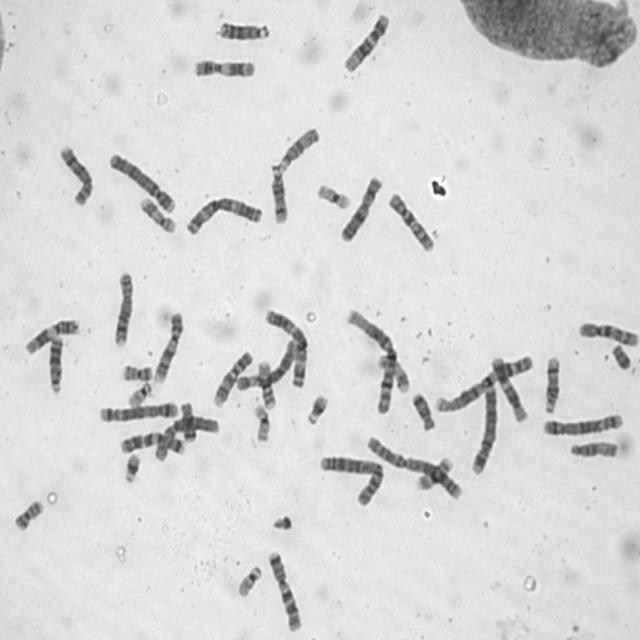A1: (431, 351, 534, 417), (342, 306, 400, 418)
A2: (362, 432, 464, 502), (316, 452, 385, 507)
A3: (262, 304, 310, 390), (183, 194, 264, 237)
B4: (107, 148, 178, 216), (467, 381, 499, 475)
B5: (540, 409, 626, 438), (97, 398, 179, 425)
C10: (386, 187, 436, 254), (576, 318, 639, 349)
C11: (22, 316, 82, 358), (191, 56, 258, 80)
C12: (340, 11, 391, 74), (488, 352, 530, 424)
C6: (233, 338, 302, 393), (150, 411, 221, 464)
C7: (264, 546, 304, 634), (117, 429, 187, 456)
C8: (55, 140, 96, 208), (110, 267, 137, 350)
C9: (208, 347, 254, 409), (151, 309, 185, 386)
D13: (216, 18, 270, 44), (45, 333, 65, 394)
D14: (267, 160, 290, 227), (541, 353, 562, 414)
D15: (276, 124, 322, 170), (566, 438, 620, 460)
E16: (414, 452, 455, 492), (256, 358, 278, 412)
E17: (136, 193, 176, 235), (375, 351, 410, 395)
E18: (409, 390, 438, 432), (178, 400, 196, 443)
F19: (315, 180, 353, 212), (250, 401, 272, 444)
F20: (12, 496, 46, 532), (119, 360, 154, 382)
G21: (303, 390, 330, 427), (121, 449, 142, 484)
G22: (234, 561, 263, 599), (126, 380, 154, 408)
X: (337, 172, 384, 245)
Y: (609, 341, 632, 372)
